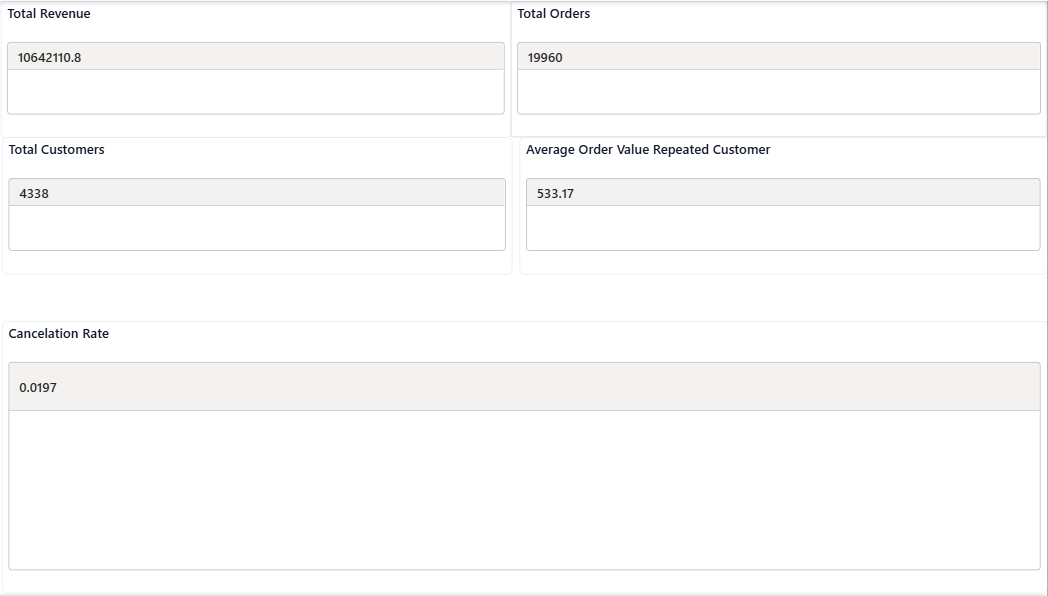

What the dashboard file says about the page in this screenshot:
{"tool":"powerbi","page":{"name":"KPI Summary","canvas":[1280,720],"ordinal":3},"visuals":[{"type":"cardVisual","title":"Total Revenue","fields":{"Rows":["dashboard_kpi_summary.value"]},"box":[10.2,0,619,166],"z":0},{"type":"cardVisual","title":"Total Orders","fields":{"Rows":["dashboard_kpi_summary.value"]},"box":[629.2,0,651.1,166],"z":1000},{"type":"cardVisual","title":"Total Customers","fields":{"Rows":["dashboard_kpi_summary.value"]},"box":[11.7,166,619,166],"z":2000},{"type":"cardVisual","title":"Average Order Value Repeated Customer ","fields":{"Rows":["dashboard_kpi_summary.value"]},"box":[639.4,166,640.9,166],"z":3000},{"type":"cardVisual","title":"Cancelation Rate","fields":{"Rows":["dashboard_kpi_summary.value"]},"box":[11.7,388.9,1268.6,330.6],"z":4000}]}

Visuals, with their boxes in screenshot pixels (x1, y1, x2, y2), scaled from the page's 1280x720 canvas onto the 1048x596 screenshot:
"Total Revenue" cardVisual: <region>8, 0, 515, 137</region>
"Total Orders" cardVisual: <region>515, 0, 1047, 137</region>
"Total Customers" cardVisual: <region>10, 137, 516, 275</region>
"Average Order Value Repeated Customer " cardVisual: <region>524, 137, 1047, 275</region>
"Cancelation Rate" cardVisual: <region>10, 322, 1047, 595</region>
